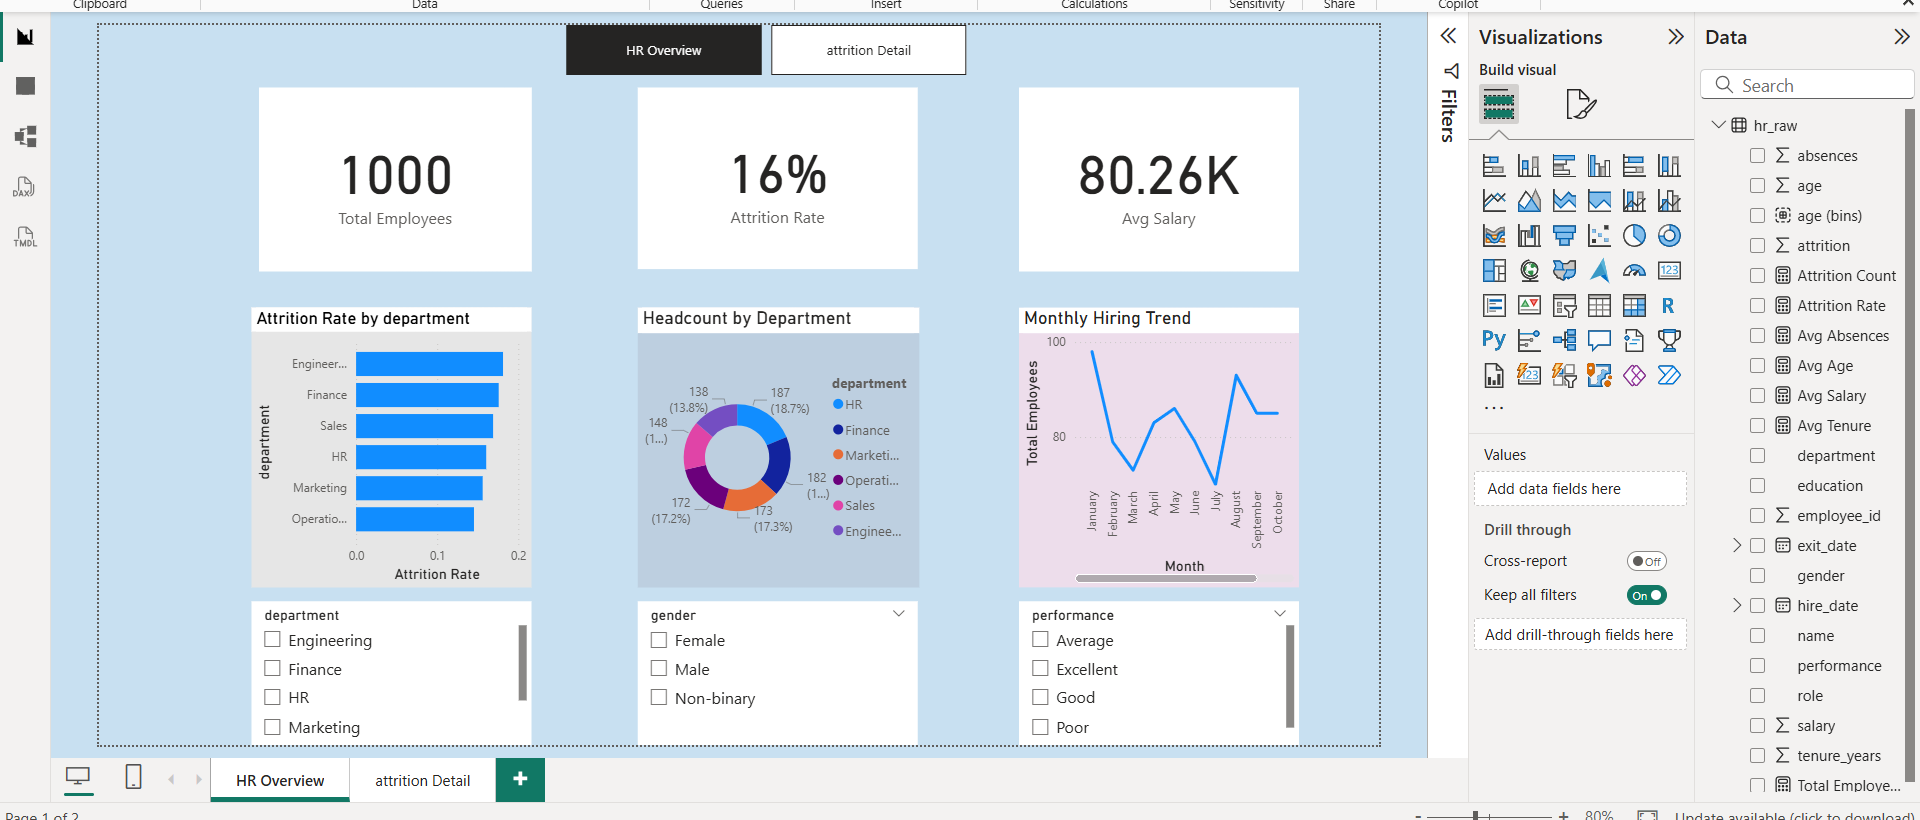

The dashboard page shown, as its layout file describes it:
{"tool":"powerbi","page":{"name":"HR Overview","canvas":[1280,720],"ordinal":0},"visuals":[{"type":"card","fields":{"Values":["hr_raw.Total Employees"]},"box":[160,62.5,272.5,183.8],"z":0},{"type":"card","fields":{"Values":["hr_raw.Attrition Rate"]},"box":[538.8,62.5,280,181.2],"z":1000},{"type":"card","fields":{"Values":["hr_raw.Avg Salary"]},"box":[920,62.5,280,183.8],"z":2000},{"type":"donutChart","title":"Headcount by Department","fields":{"Category":["hr_raw.department"],"Y":["hr_raw.Total Employees"]},"box":[538.8,282.5,281.2,280],"z":3000},{"type":"lineChart","title":"Monthly Hiring Trend","fields":{"Category":["hr_raw.hire_date.Variation.Date Hierarchy.Month"],"Y":["hr_raw.Total Employees"]},"box":[920,282.5,280,280],"z":4000},{"type":"slicer","fields":{"Values":["hr_raw.department"]},"box":[152.5,576.2,280,143.8],"z":5000},{"type":"slicer","fields":{"Values":["hr_raw.gender"]},"box":[538.8,576.2,280,143.8],"z":6000},{"type":"slicer","fields":{"Values":["hr_raw.performance"]},"box":[920,576.2,280,143.8],"z":7000},{"type":"clusteredBarChart","fields":{"Category":["hr_raw.department"],"Y":["hr_raw.Attrition Rate"]},"box":[152.5,282.5,280,280],"z":8000},{"type":"pageNavigator","box":[467.5,0,400,50],"z":9000}]}

Visuals, with their boxes on the page's 1280x720 design canvas (x1, y1, x2, y2). These are canvas units, not pixel positions in the 1920x820 screenshot, which may show the page scaled, cropped or inside an application window:
card - hr_raw.Total Employees: [160,62,432,246]
card - hr_raw.Attrition Rate: [539,62,819,244]
card - hr_raw.Avg Salary: [920,62,1200,246]
"Headcount by Department" donutChart: [539,282,820,562]
"Monthly Hiring Trend" lineChart: [920,282,1200,562]
slicer - hr_raw.department: [152,576,432,720]
slicer - hr_raw.gender: [539,576,819,720]
slicer - hr_raw.performance: [920,576,1200,720]
clusteredBarChart - hr_raw.department x hr_raw.Attrition Rate: [152,282,432,562]
pageNavigator: [468,0,868,50]
